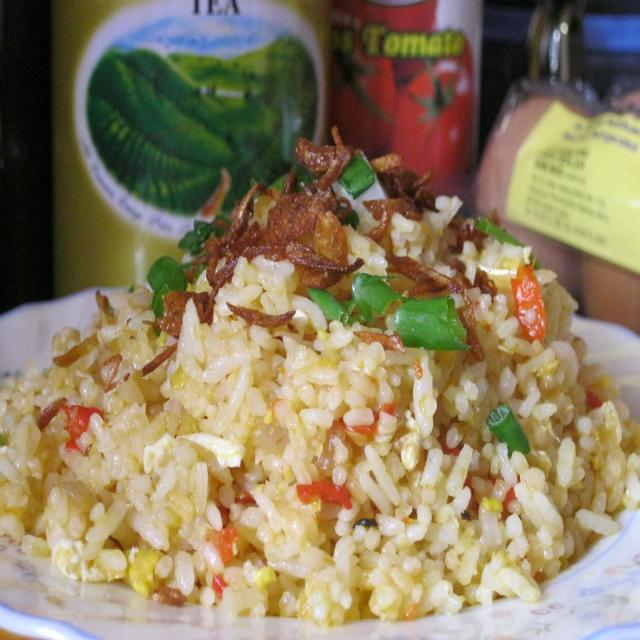Nasi Goreng: (1, 126, 638, 627)
